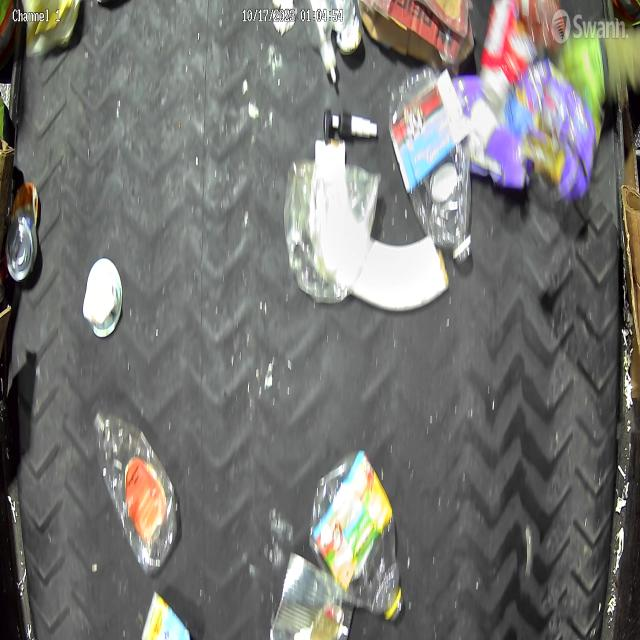can: (6, 181, 40, 280)
plastic_bottle: (387, 67, 473, 265), (312, 449, 406, 627), (94, 404, 180, 569)
